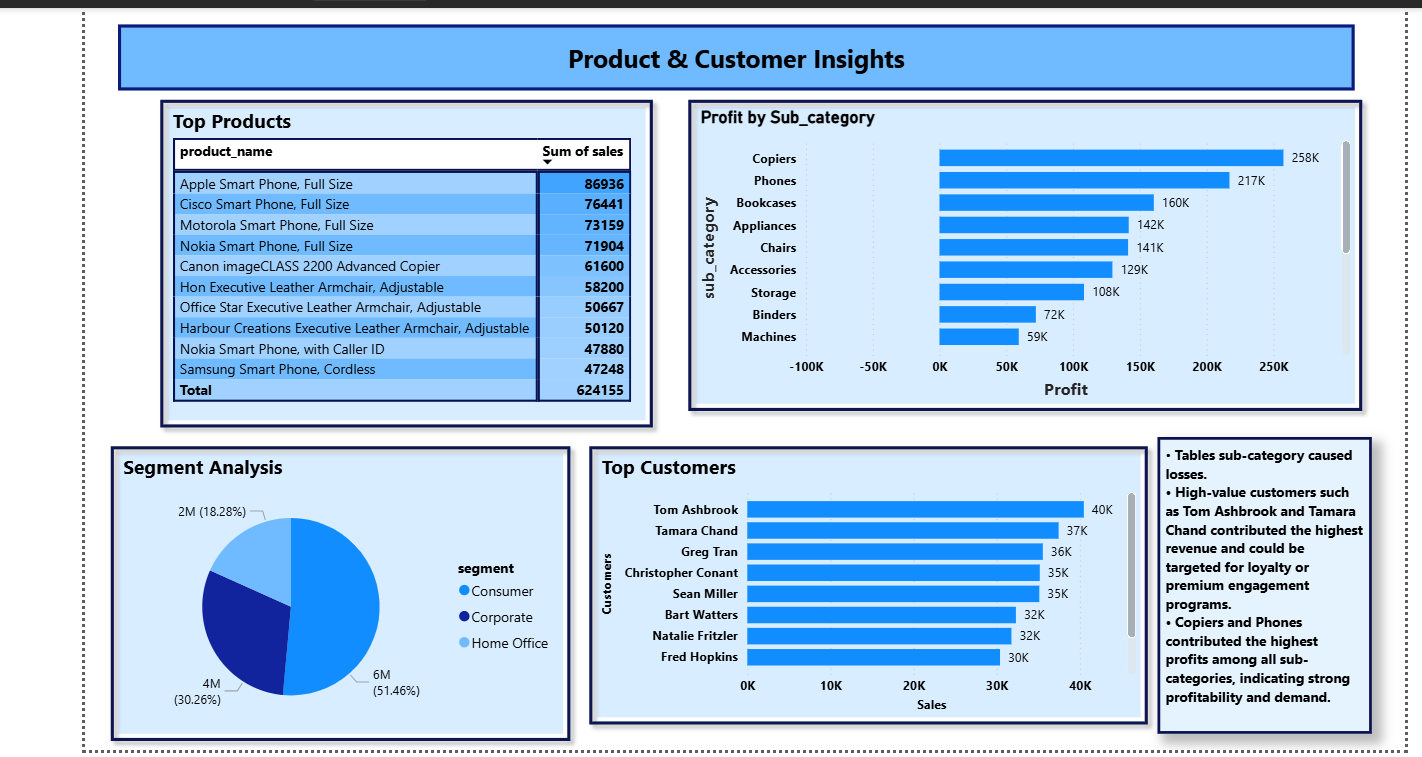

What the dashboard file says about the page in this screenshot:
{"tool":"powerbi","page":{"name":"Product and Customer Insights","canvas":[1280,720],"ordinal":2},"visuals":[{"type":"shape","box":[16,416,464,304],"z":0},{"type":"shape","box":[32,16,1200,64],"z":1000},{"type":"shape","box":[480,416,560,288],"z":2000},{"type":"shape","box":[576,80,672,320],"z":3000},{"type":"shape","box":[64,80,496,336],"z":4000},{"type":"clusteredBarChart","title":"Top Customers","fields":{"Category":["superstore.customer_name"],"Y":["Sum(superstore.sales)"]},"box":[496,432,528,256],"z":5000},{"type":"clusteredBarChart","title":"Profit by Sub_category","fields":{"Category":["superstore.sub_category"],"Y":["Sum(superstore.profit)"]},"box":[592,96,640,288],"z":6000},{"type":"pivotTable","title":"Top Products ","fields":{"Rows":["superstore.product_name"],"Values":["Sum(superstore.sales)"]},"box":[80,96,464,304],"z":7000},{"type":"pieChart","title":"Segment Analysis","fields":{"Category":["superstore.segment"],"Y":["Sum(superstore.sales)"]},"box":[32,432,432,272],"z":8000},{"type":"textbox","box":[1040,416,208,288],"z":9000}]}

Visuals, with their boxes in screenshot pixels (x1, y1, x2, y2):
shape: [x1=87, y1=442, x2=567, y2=756]
shape: [x1=103, y1=28, x2=1345, y2=94]
shape: [x1=567, y1=442, x2=1146, y2=740]
shape: [x1=666, y1=94, x2=1362, y2=425]
shape: [x1=137, y1=94, x2=650, y2=442]
"Top Customers" clusteredBarChart: [x1=584, y1=458, x2=1130, y2=723]
"Profit by Sub_category" clusteredBarChart: [x1=683, y1=110, x2=1345, y2=408]
"Top Products " pivotTable: [x1=153, y1=110, x2=633, y2=425]
"Segment Analysis" pieChart: [x1=103, y1=458, x2=550, y2=740]
textbox: [x1=1146, y1=442, x2=1362, y2=740]
